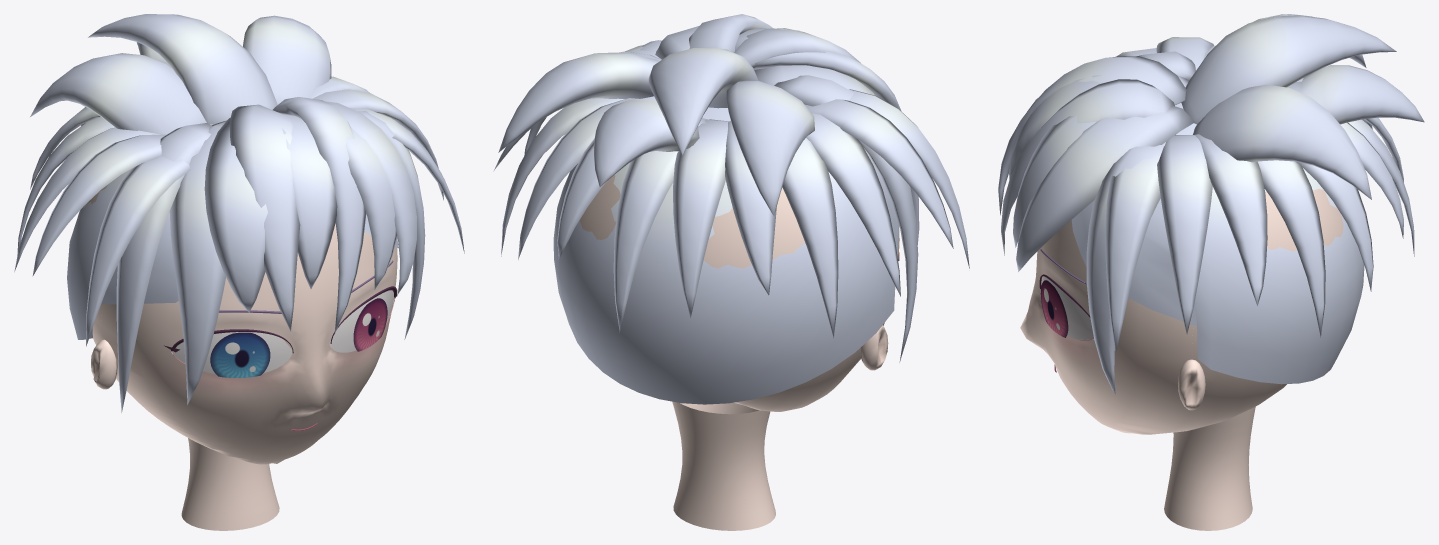
File: head-awakened.glb
The picture shows the model from 3 angles, left to right: view 1: azimuth 30°, elevation 25°; view 2: azimuth 150°, elevation 25°; view 3: azimuth 270°, elevation 25°; orthographic projection. The views are drawn at different scales.
Parts seen in each view (by area): view 1: Hair, Head, Irises, EyeWhites, UpperLashes; view 2: Hair, Head; view 3: Hair, Head, Irises, EyeWhites.
Part boxes in pixels (box(x1,y1,x2,y2)): Hair: box(14, 14, 464, 412); Head: box(83, 185, 397, 530); Irises: box(210, 298, 387, 377); EyeWhites: box(173, 290, 394, 374); UpperLashes: box(164, 286, 397, 353); Hair: box(493, 14, 969, 404); Head: box(577, 164, 899, 530); Hair: box(998, 14, 1424, 395); Head: box(1020, 189, 1343, 530); Irises: box(1040, 280, 1068, 337); EyeWhites: box(1042, 276, 1093, 339).
Bounding box in the file's own units: 0.3521 × 0.381 × 0.3076.
Materials: 8 (3 with a texture image).
